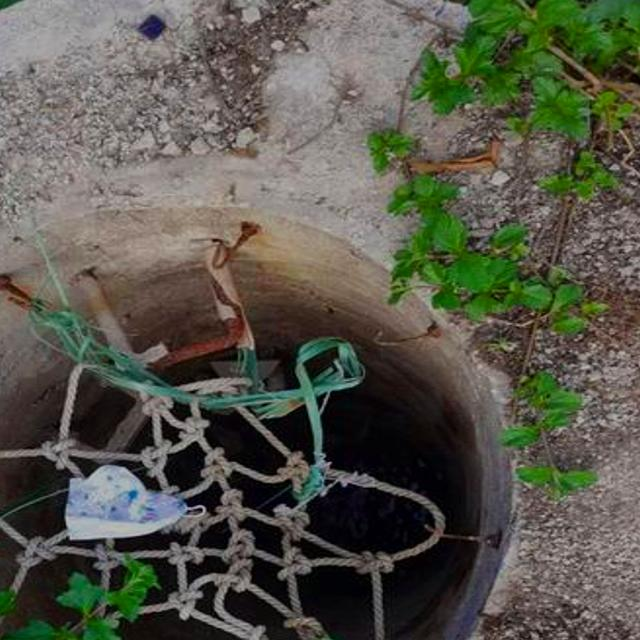lose: (0, 190, 561, 640)
